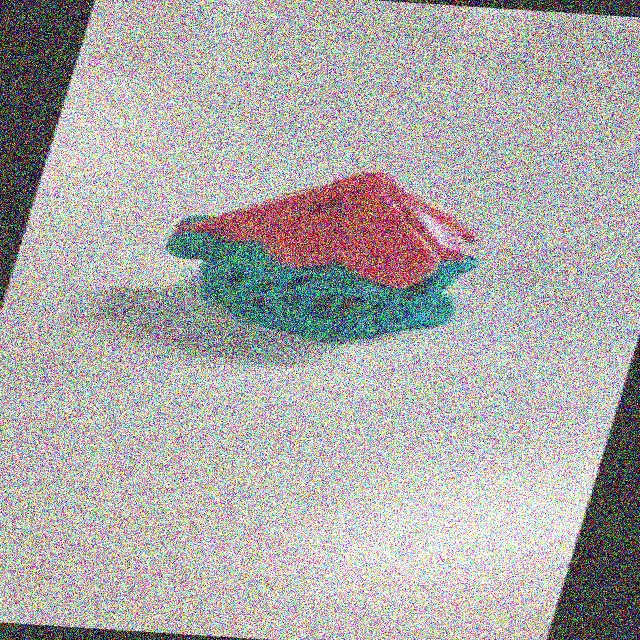House: (126, 150, 529, 362)
